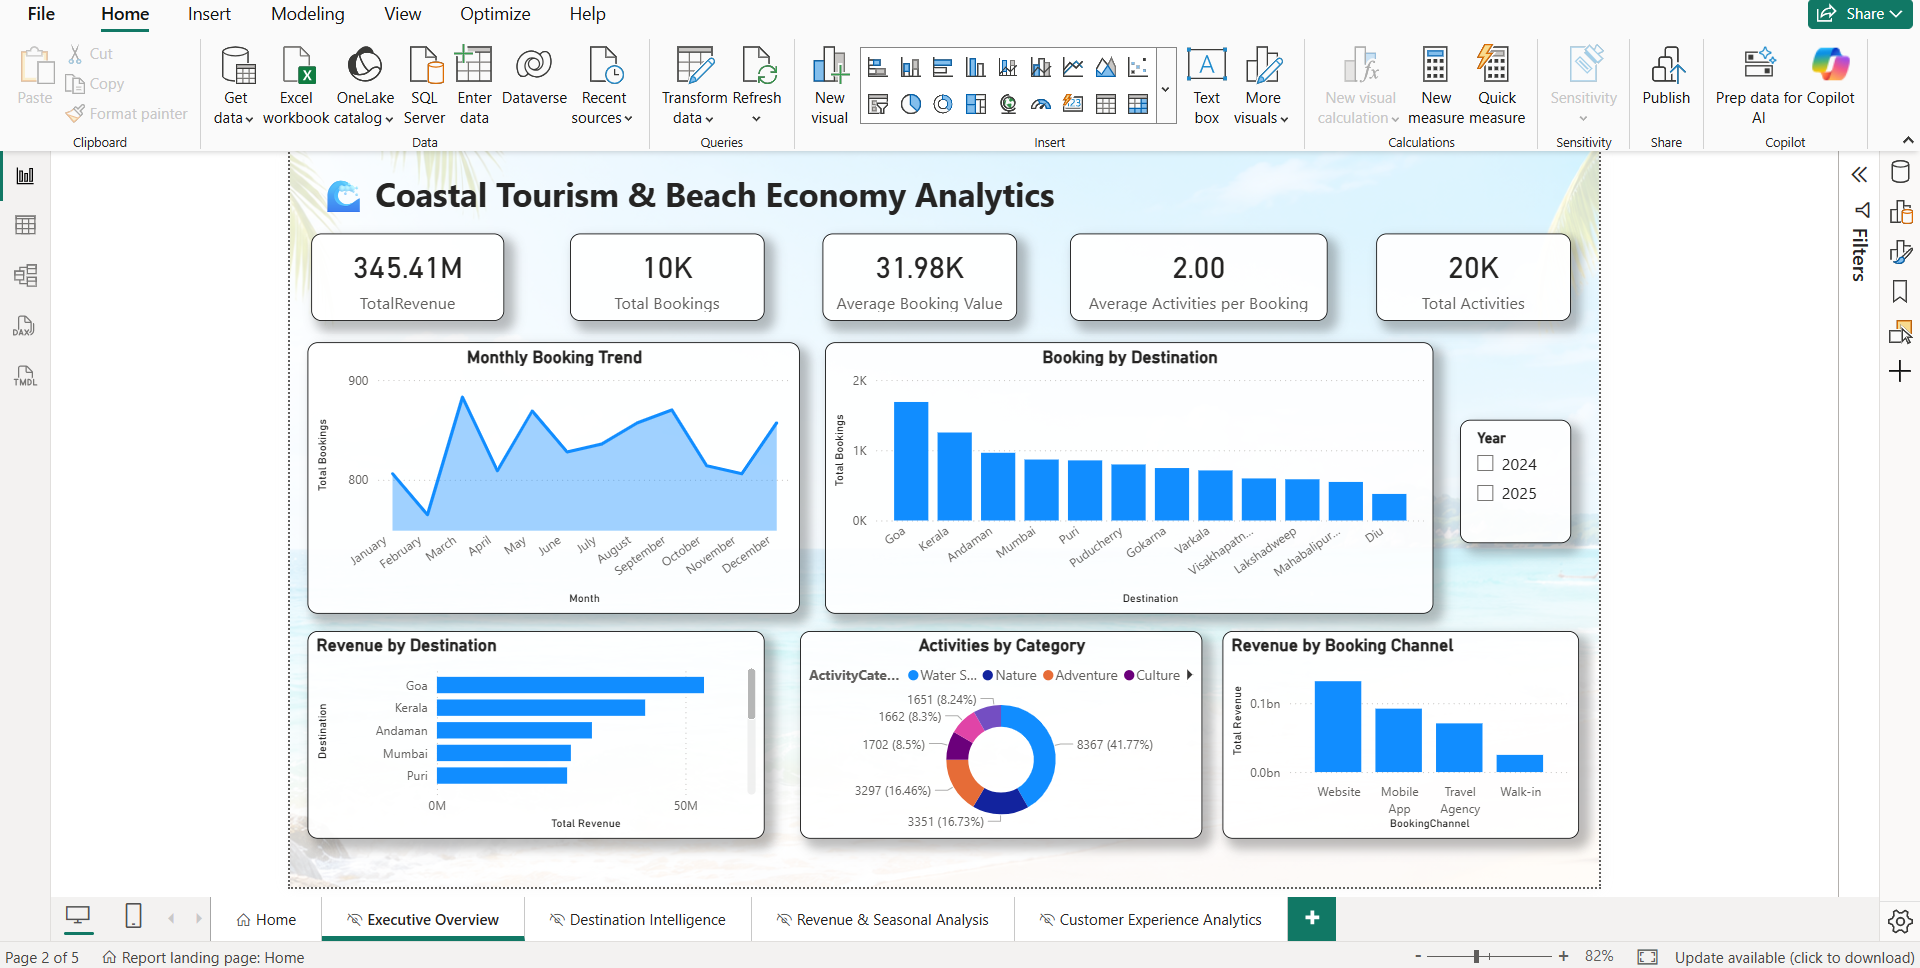

This screenshot's page, from the dashboard's own definition file:
{"tool":"powerbi","page":{"name":"Executive Overview","canvas":[1280,720],"ordinal":1},"visuals":[{"type":"card","fields":{"Values":["Sum(Fact_Booking.TotalRevenue)"]},"box":[20.6,80.8,189,85.9],"z":0},{"type":"card","fields":{"Values":["Measure Table.Total Bookings"]},"box":[274.4,80.6,190.4,85.7],"z":1000},{"type":"card","fields":{"Values":["Measure Table.Average Booking Value"]},"box":[521.3,80.6,190.4,85.7],"z":2000},{"type":"card","fields":{"Values":["Measure Table.Total Activities"]},"box":[1063.3,80.6,190.4,85.7],"z":3000},{"type":"card","fields":{"Values":["Measure Table.Average Activities per Booking"]},"box":[763.1,80.6,252.1,85.7],"z":4000},{"type":"lineChart","title":"Monthly Booking Trend","fields":{"Y":["Measure Table.Total Bookings"],"Category":["Dim_Date.Month"]},"box":[17.1,187.1,481.8,265.4],"z":5000},{"type":"clusteredColumnChart","title":"Booking by Destination","fields":{"Category":["Dim_Destination.Destination"],"Y":["Measure Table.Total Bookings"]},"box":[523.4,187.1,595.5,265.4],"z":6000},{"type":"clusteredBarChart","title":"Revenue by Destination","fields":{"Category":["Dim_Destination.Destination"],"Y":["Measure Table.Total Revenue"]},"box":[17.1,469.6,447.6,203],"z":7000},{"type":"donutChart","title":" Activities by Category","fields":{"Category":["Dim_Activity.ActivityCategory"],"Y":["Measure Table.Total Activities"]},"box":[498.9,469.6,393.8,203],"z":8000},{"type":"clusteredColumnChart","title":" Revenue by Booking Channel","fields":{"Category":["Fact_Booking.BookingChannel"],"Y":["Measure Table.Total Revenue"]},"box":[912.2,469.6,348.5,203],"z":9000},{"type":"slicer","fields":{"Values":["Dim_Date.Year"]},"box":[1144.6,262.9,108.8,121.1],"z":10000},{"type":"textbox","box":[25.8,15.5,776.8,53.3],"z":11000}]}

Visuals, with their boxes on the page's 1280x720 design canvas (x1, y1, x2, y2). These are canvas units, not pixel positions in the 1920x968 screenshot, which may show the page scaled, cropped or inside an application window:
card - Sum(Fact_Booking.TotalRevenue): detection(21, 81, 210, 167)
card - Measure Table.Total Bookings: detection(274, 81, 465, 166)
card - Measure Table.Average Booking Value: detection(521, 81, 712, 166)
card - Measure Table.Total Activities: detection(1063, 81, 1254, 166)
card - Measure Table.Average Activities per Booking: detection(763, 81, 1015, 166)
"Monthly Booking Trend" lineChart: detection(17, 187, 499, 452)
"Booking by Destination" clusteredColumnChart: detection(523, 187, 1119, 452)
"Revenue by Destination" clusteredBarChart: detection(17, 470, 465, 673)
" Activities by Category" donutChart: detection(499, 470, 893, 673)
" Revenue by Booking Channel" clusteredColumnChart: detection(912, 470, 1261, 673)
slicer - Dim_Date.Year: detection(1145, 263, 1253, 384)
textbox: detection(26, 16, 803, 69)
